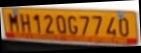character: (19, 13, 31, 33), (43, 13, 54, 34), (105, 16, 116, 37), (66, 15, 77, 35), (91, 15, 102, 35), (8, 14, 19, 33), (55, 14, 66, 33), (79, 15, 89, 35), (118, 17, 128, 37), (33, 14, 41, 33)
